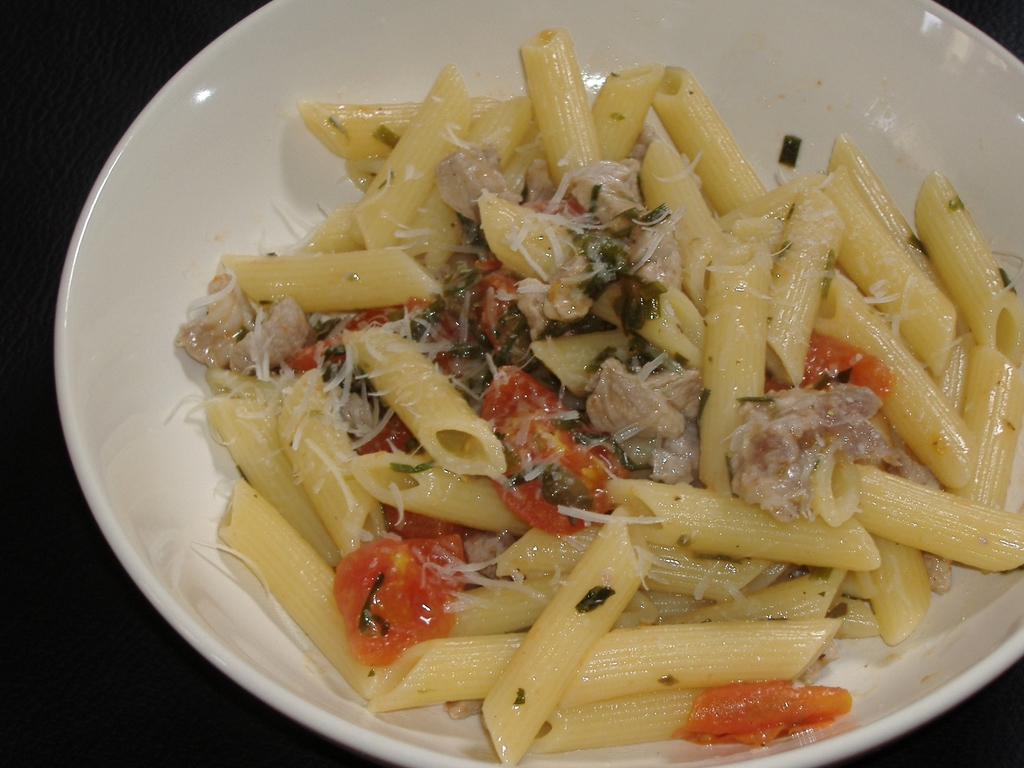pasta: (203, 22, 1023, 767)
